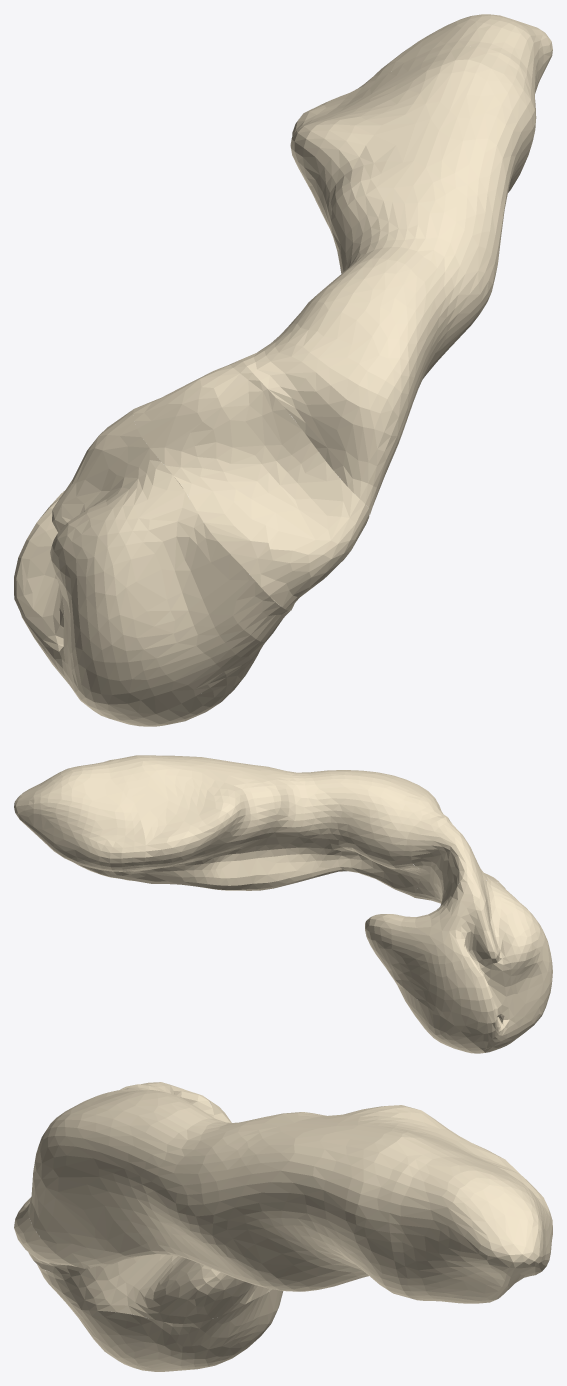
The model's file is VH_M_Pancreas_0.4.glb.
3 views of the same model, one above another, from view 1: azimuth 30°, elevation 25°; view 2: azimuth 150°, elevation 25°; view 3: azimuth 270°, elevation 25° (orthographic). The views are drawn at different scales.
Parts seen in each view (by area): view 1: VH_M_body_of_pancreas, VH_M_head_of_pancreas, VH_M_neck_of_pancreas, VH_M_tail_of_pancreas, VH_M_uncinate_process_of_the_pancreas; view 2: VH_M_body_of_pancreas, VH_M_head_of_pancreas, VH_M_tail_of_pancreas, VH_M_neck_of_pancreas, VH_M_uncinate_process_of_the_pancreas; view 3: VH_M_body_of_pancreas, VH_M_tail_of_pancreas, VH_M_head_of_pancreas, VH_M_uncinate_process_of_the_pancreas, VH_M_neck_of_pancreas.
Part boxes in pixels (box(x1,y1,x2,y2)): VH_M_body_of_pancreas: box(241, 46, 536, 514); VH_M_head_of_pancreas: box(14, 409, 289, 720); VH_M_neck_of_pancreas: box(133, 359, 369, 610); VH_M_tail_of_pancreas: box(335, 14, 552, 98); VH_M_uncinate_process_of_the_pancreas: box(111, 646, 262, 726); VH_M_body_of_pancreas: box(112, 755, 447, 897); VH_M_head_of_pancreas: box(365, 875, 552, 1052); VH_M_tail_of_pancreas: box(14, 760, 145, 879); VH_M_neck_of_pancreas: box(411, 817, 501, 905); VH_M_uncinate_process_of_the_pancreas: box(391, 976, 485, 1053); VH_M_body_of_pancreas: box(28, 1084, 520, 1299); VH_M_tail_of_pancreas: box(389, 1150, 552, 1303); VH_M_head_of_pancreas: box(37, 1097, 271, 1323); VH_M_uncinate_process_of_the_pancreas: box(70, 1289, 283, 1371); VH_M_neck_of_pancreas: box(14, 1082, 213, 1273).
Size of the model in its own units: 0.1116 by 0.0721 by 0.0837.
